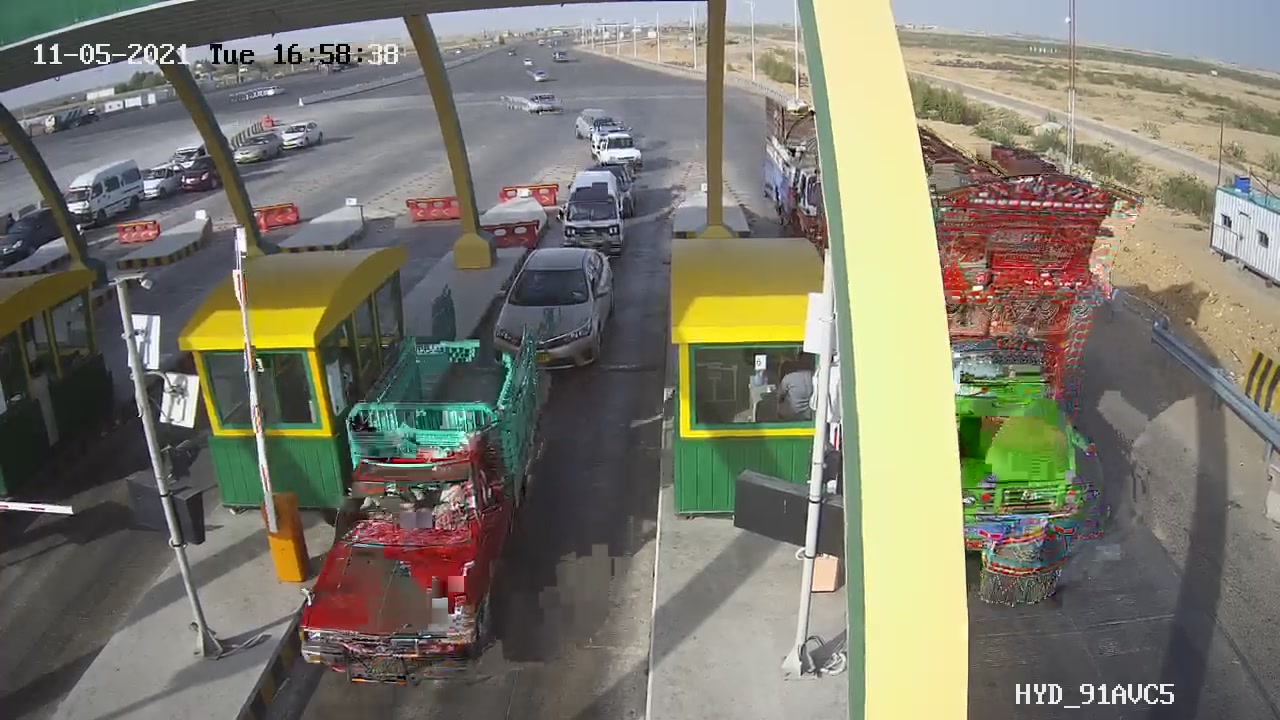F1: (476, 228, 636, 389)
